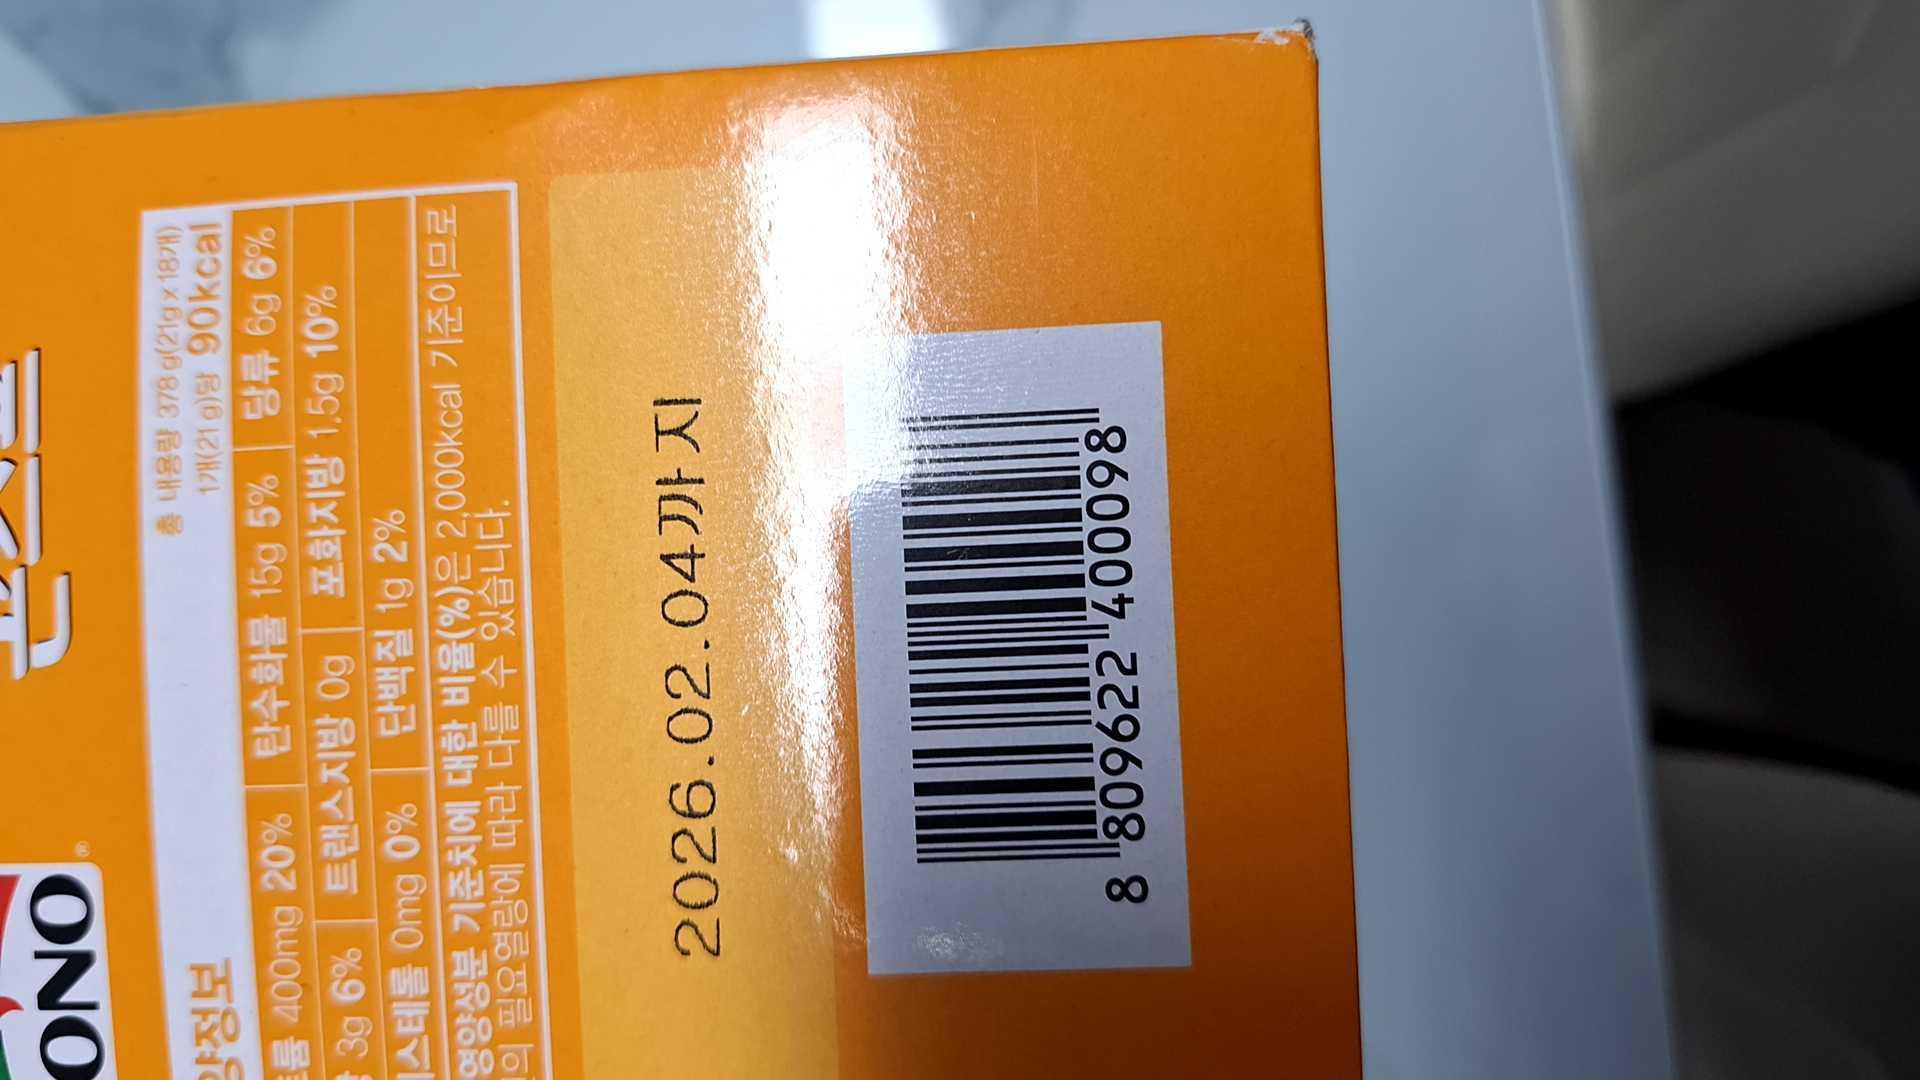cola-2000-2025-7-8: (889, 394, 1162, 932)
